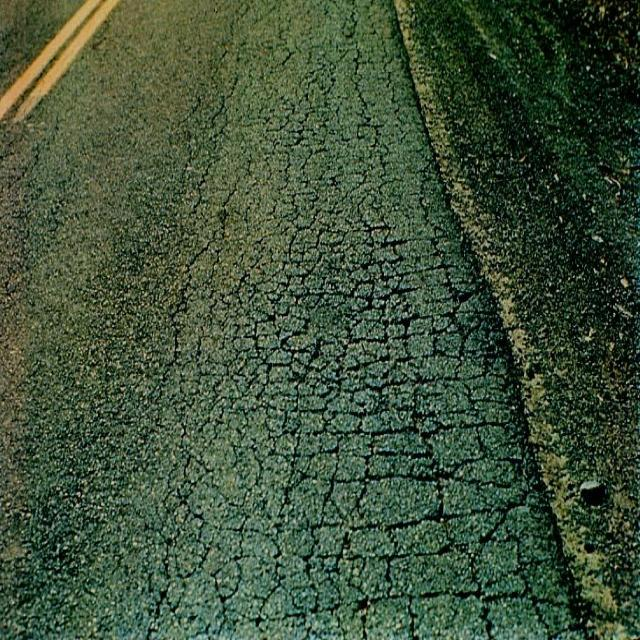Drain Hole: (157, 177, 640, 640)
